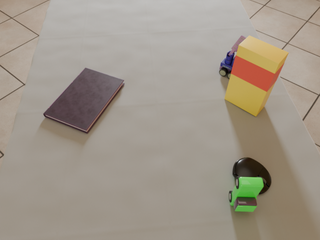book: (43, 68, 124, 134)
box: (225, 36, 288, 116)
mouse: (233, 158, 271, 194)
toy_car: (229, 176, 264, 212), (219, 35, 246, 79)
